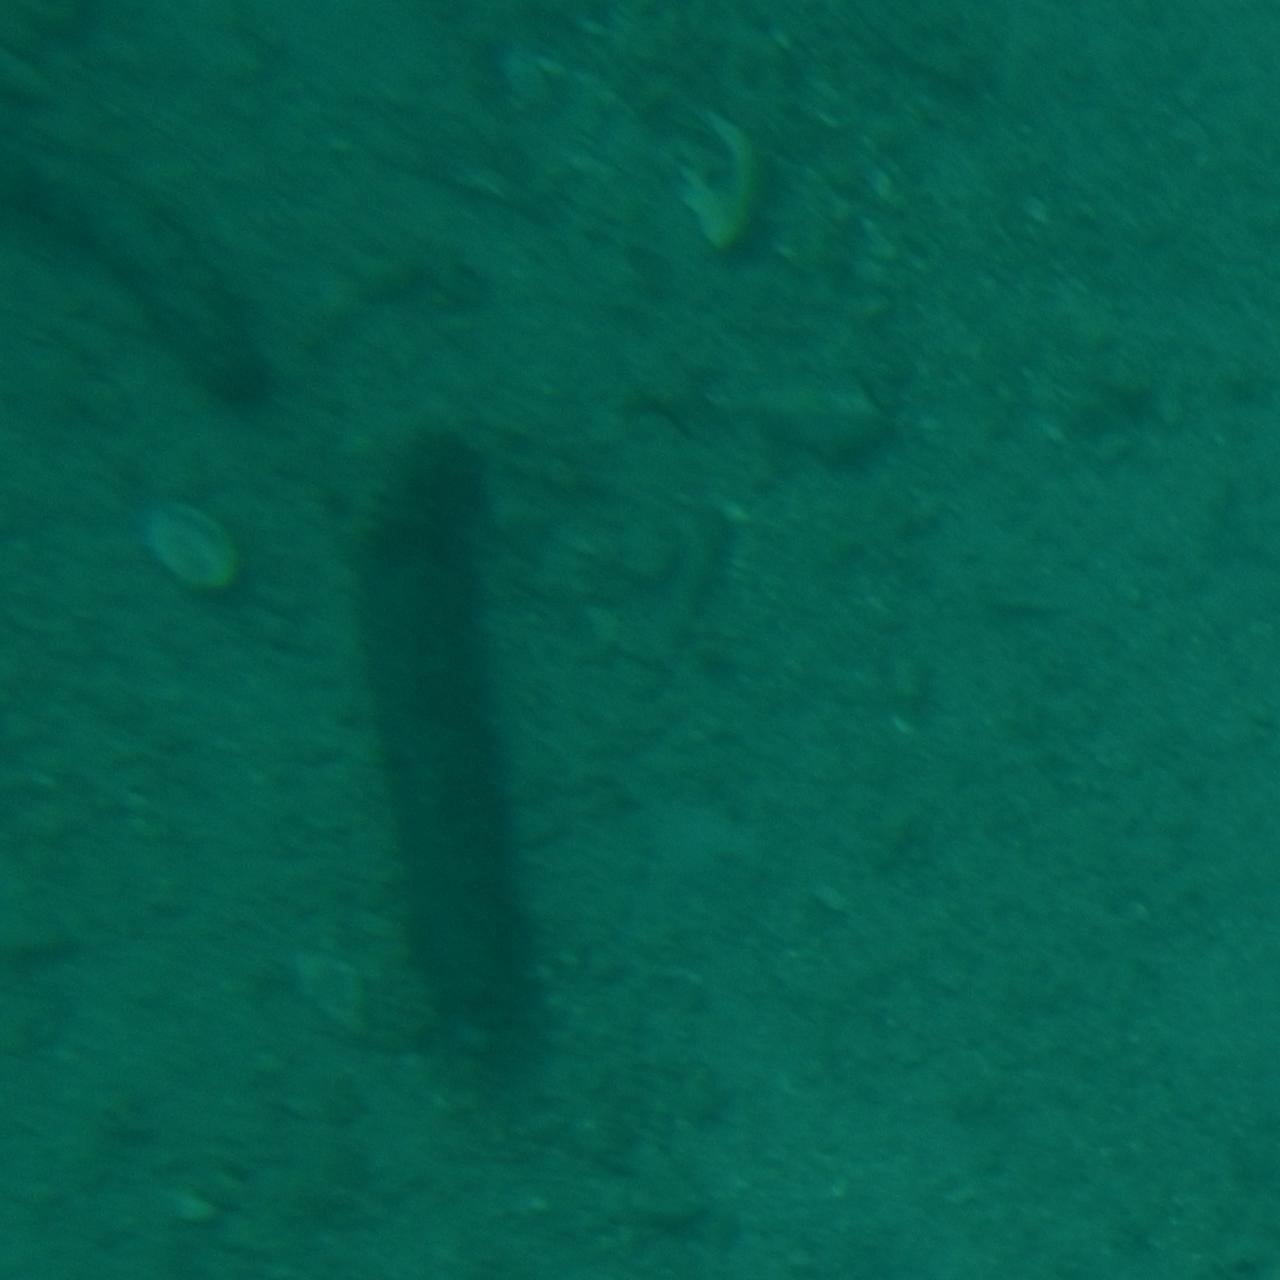Holothuria tubulosa: (342, 422, 554, 1060), (2, 123, 280, 423)
